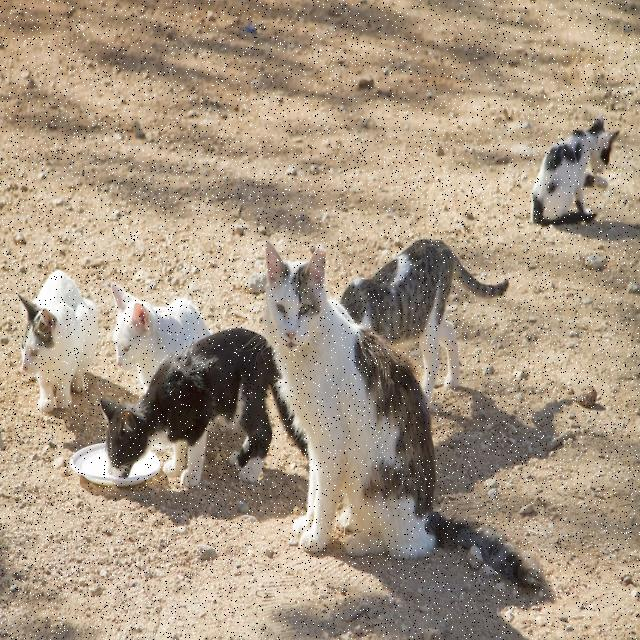cat: (264, 244, 544, 588), (100, 328, 308, 488), (341, 240, 509, 399), (19, 270, 98, 412), (111, 283, 210, 392), (531, 116, 619, 225)
